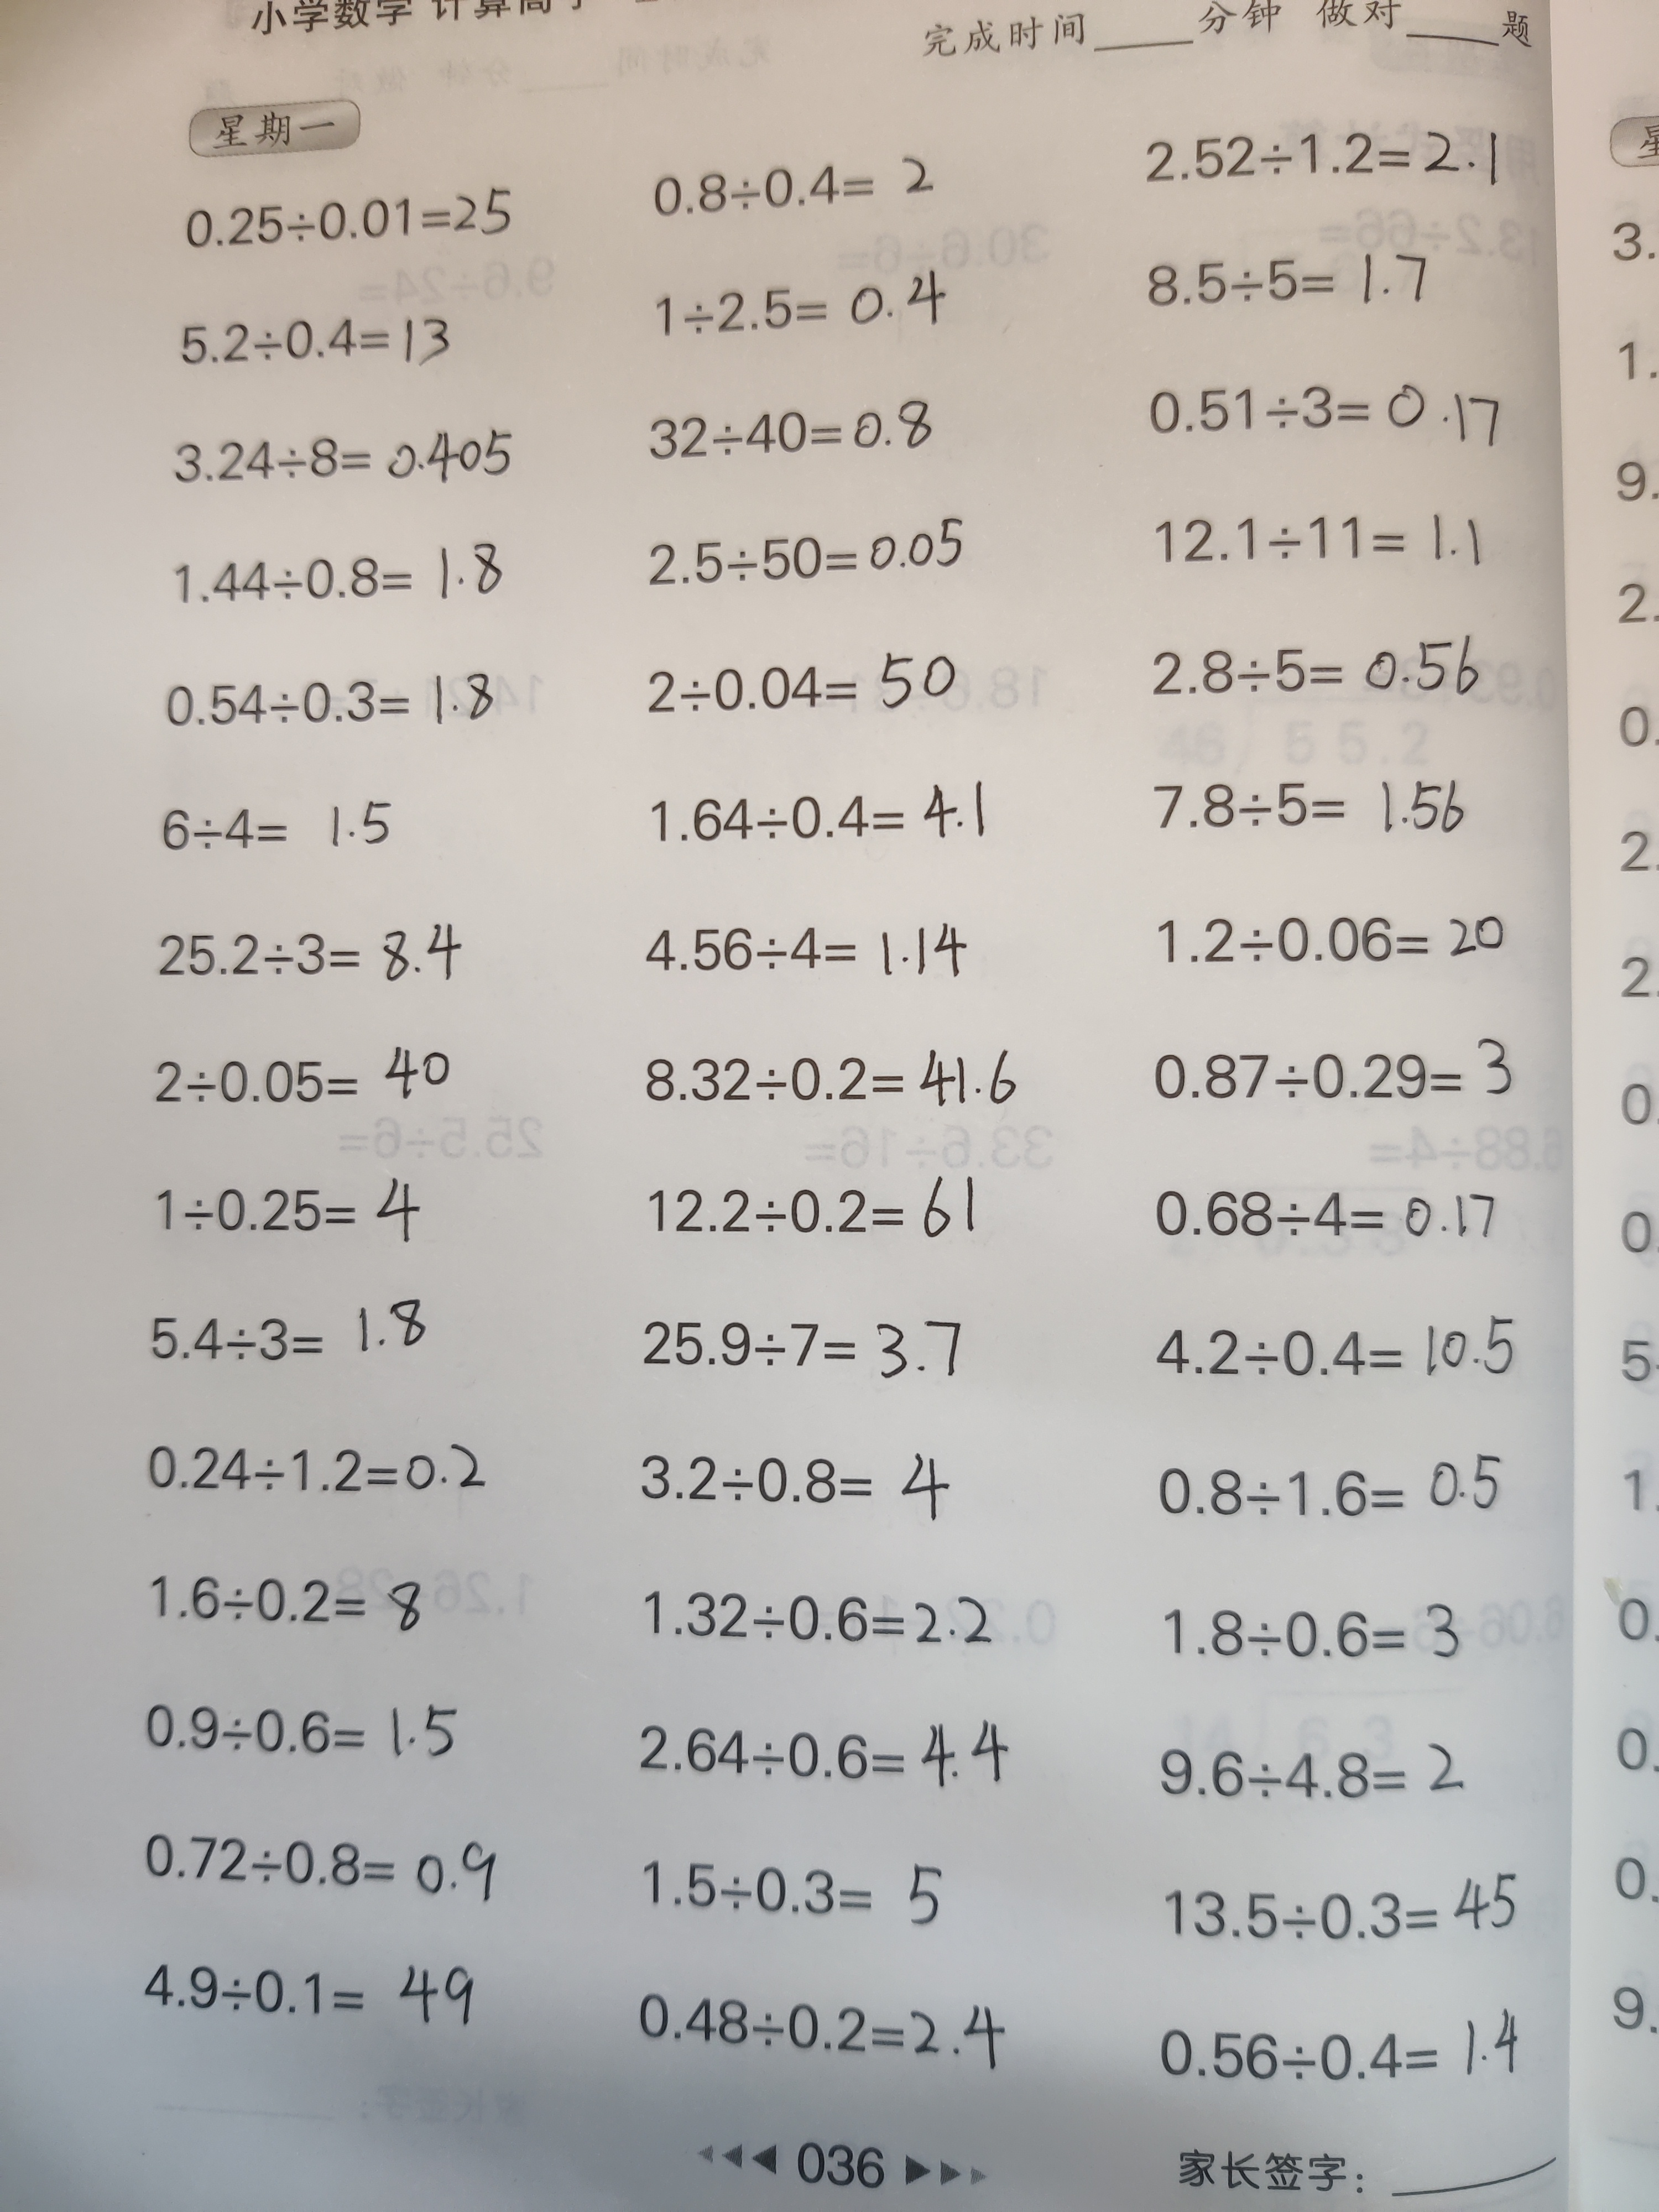equation: (615, 1689, 1006, 1803), (125, 1799, 505, 1914), (1145, 1989, 1530, 2099), (619, 1973, 1011, 2078), (1134, 1430, 1509, 1538), (1138, 1026, 1537, 1123), (1124, 108, 1511, 207), (1152, 1857, 1532, 1958), (1141, 1575, 1485, 1686), (1136, 1721, 1499, 1825), (624, 1038, 1032, 1130), (624, 1435, 971, 1543), (131, 1414, 498, 1515), (1134, 1315, 1530, 1406), (1134, 1176, 1535, 1264), (638, 763, 1002, 860), (1129, 374, 1511, 467), (162, 160, 518, 258), (626, 1301, 978, 1399), (157, 653, 518, 747), (633, 1569, 997, 1662), (145, 897, 471, 1000), (132, 1952, 486, 2047), (633, 1167, 990, 1259), (125, 1554, 446, 1656), (640, 1839, 960, 1939), (160, 536, 525, 624), (1141, 763, 1473, 859), (132, 1157, 427, 1263), (636, 639, 972, 732), (631, 914, 992, 1000), (1143, 505, 1502, 590), (1134, 631, 1492, 716), (167, 289, 479, 387), (640, 247, 958, 341), (138, 1031, 453, 1125), (162, 416, 518, 498), (1131, 239, 1452, 329), (633, 514, 983, 594), (1124, 902, 1518, 972), (143, 1294, 429, 1390), (138, 1695, 464, 1777), (636, 397, 958, 474), (631, 153, 965, 223), (153, 791, 401, 871)
